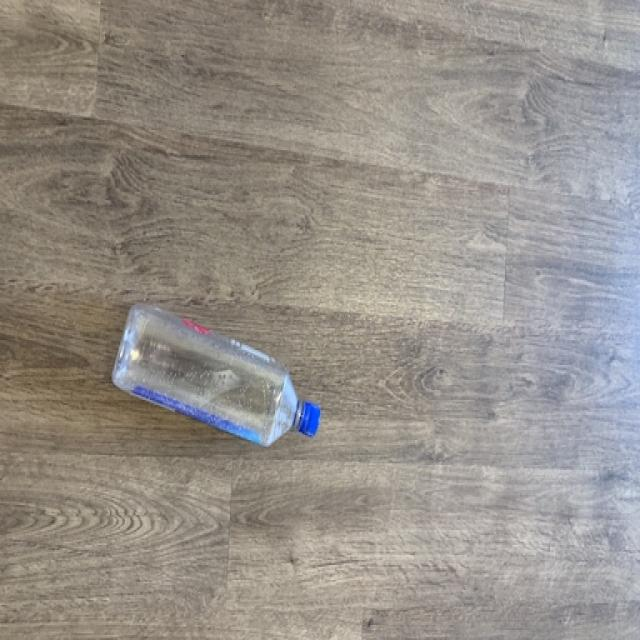Waste: (112, 305, 321, 446)
